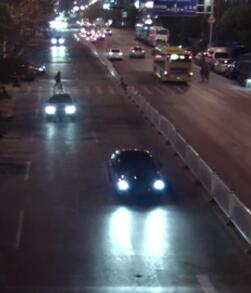bus: (150, 44, 193, 84), (142, 24, 168, 48), (134, 22, 147, 40)
car: (106, 148, 167, 201), (3, 57, 47, 82), (43, 91, 74, 119), (204, 45, 235, 70), (214, 55, 236, 78), (105, 46, 123, 59), (49, 32, 65, 45), (193, 50, 207, 64), (130, 45, 144, 56), (86, 34, 96, 42), (103, 27, 113, 35), (96, 32, 105, 38)
